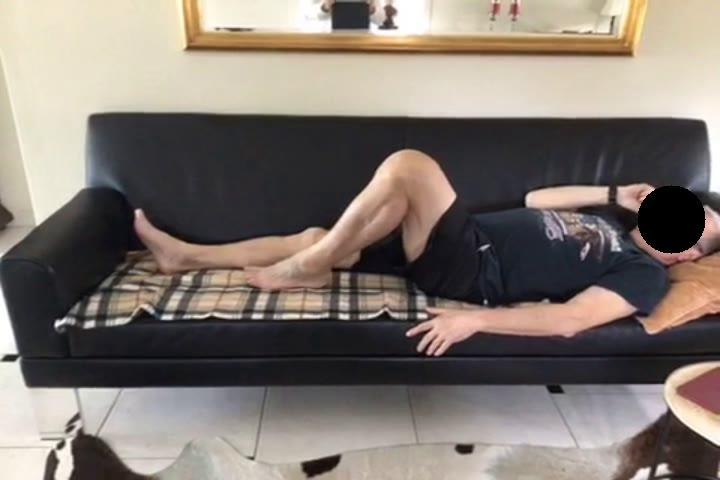lower_body: (134, 147, 507, 307)
